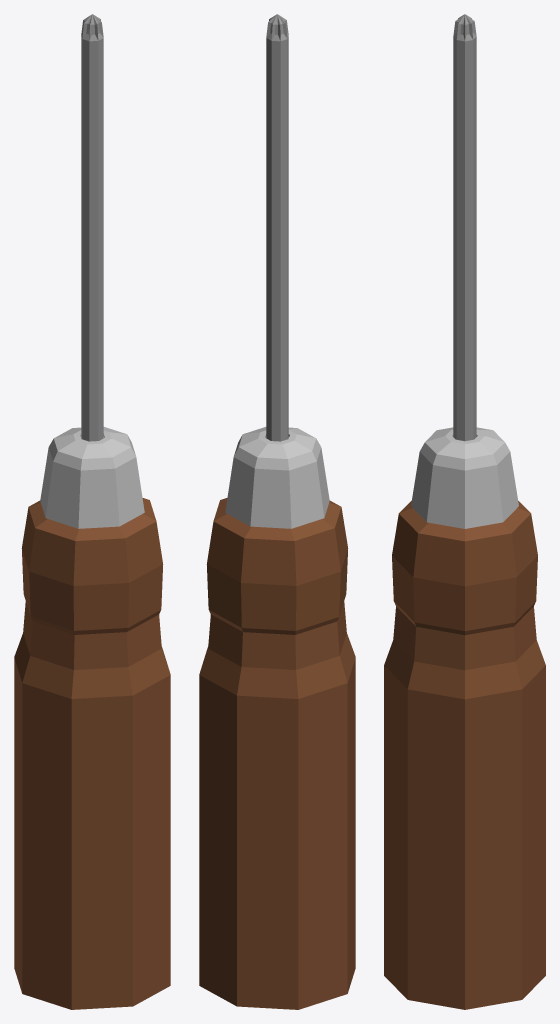
Rendered from screwdriver01.obj.
3 renders of one model, left to right at view 1: azimuth 30°, elevation 25°; view 2: azimuth 150°, elevation 25°; view 3: azimuth 270°, elevation 25°, orthographic.
Visible parts, largest first — view 1: Cylinder_Cylinder.001; view 2: Cylinder_Cylinder.001; view 3: Cylinder_Cylinder.001.
Boxes of the visible parts, x1,y1,x2,y2 form: Cylinder_Cylinder.001: (14,14,170,1009); Cylinder_Cylinder.001: (199,14,355,1009); Cylinder_Cylinder.001: (384,14,545,1009).
Size of the model in its own units: 0.03 by 0.1969 by 0.03.
Materials: 1 (1 with a texture image).
